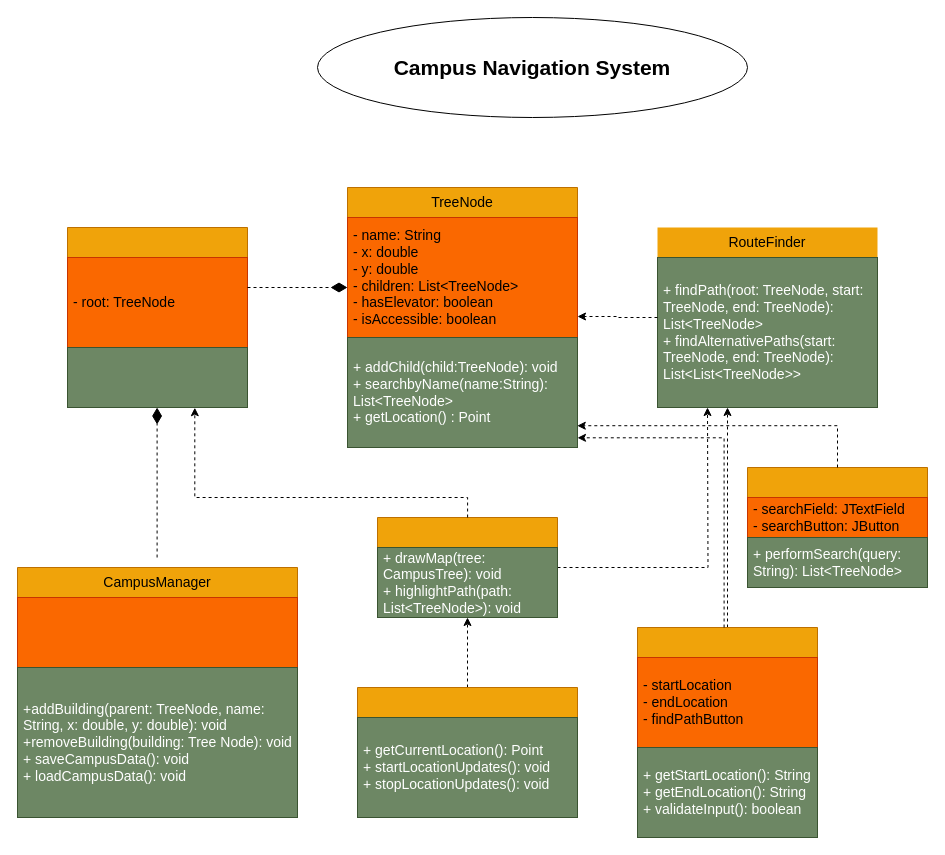
The diagram is 945 pixels wide and 855 high, and some of its shapes have lost their labels. The box of each missing label's shape, as (x1, y1, x2, y2) in pixels:
+ getRoot(): TreeNode + getAllBuildings(): List<TreeNode>: (66, 346, 248, 408)
- tree: CampusTree: (16, 596, 298, 668)
CampusTree: (66, 226, 248, 348)
GPS_Module: (356, 686, 578, 818)
Input_Module: (636, 626, 818, 838)
Map_Area_Module: (376, 516, 558, 618)
SearchPanel: (746, 466, 928, 588)
